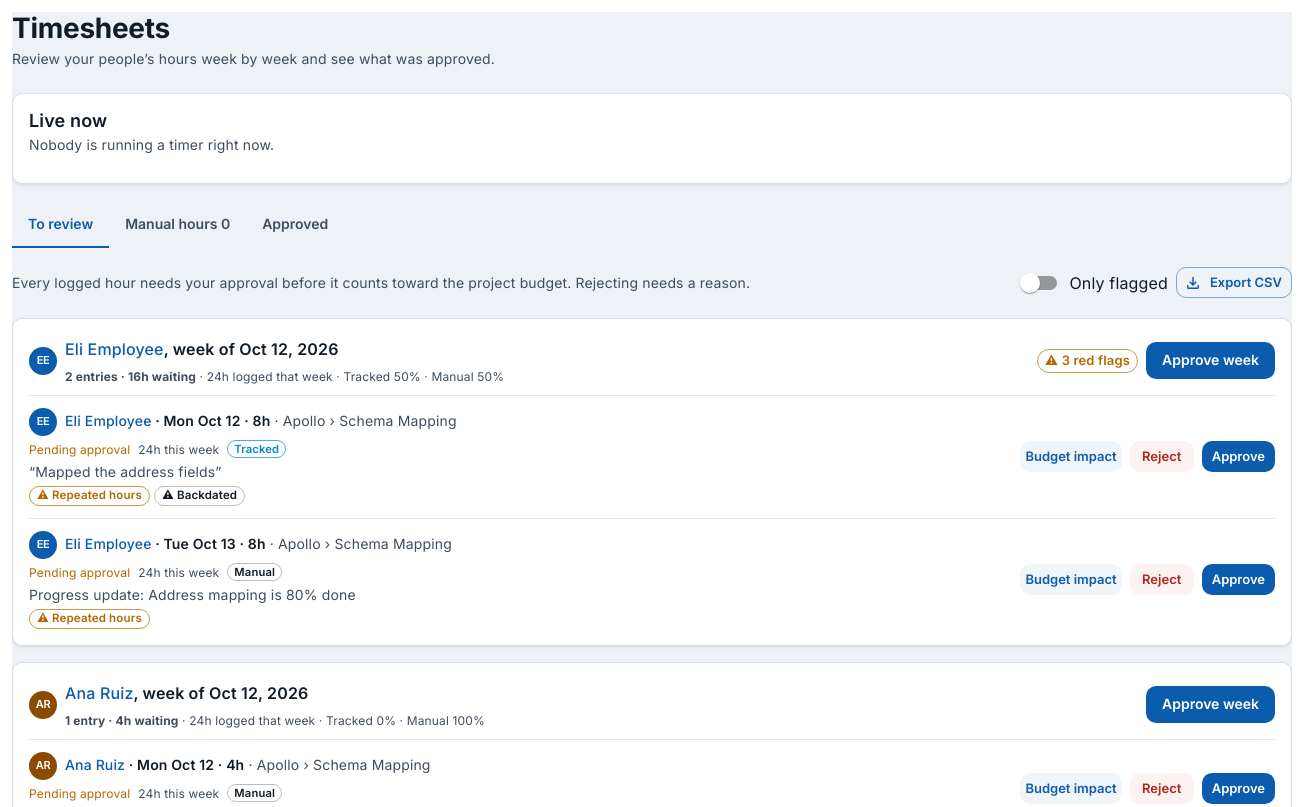
Timesheets: proof of work, tracked share and red flags › each entry shows its source, its proof and its red flags; each week its tracked share and flag count
The width and height of the screenshot is (1304, 807).
Expected: the text "Tracked 50% · Manual 50%" is shown, x1=333 y1=369 x2=504 y2=384
Expected: the text "⚠ 3 red flags" is shown, x1=1038 y1=351 x2=1137 y2=370
Hover over the text "⚠ Backdated": (200, 495) x1=162 y1=488 x2=237 y2=502
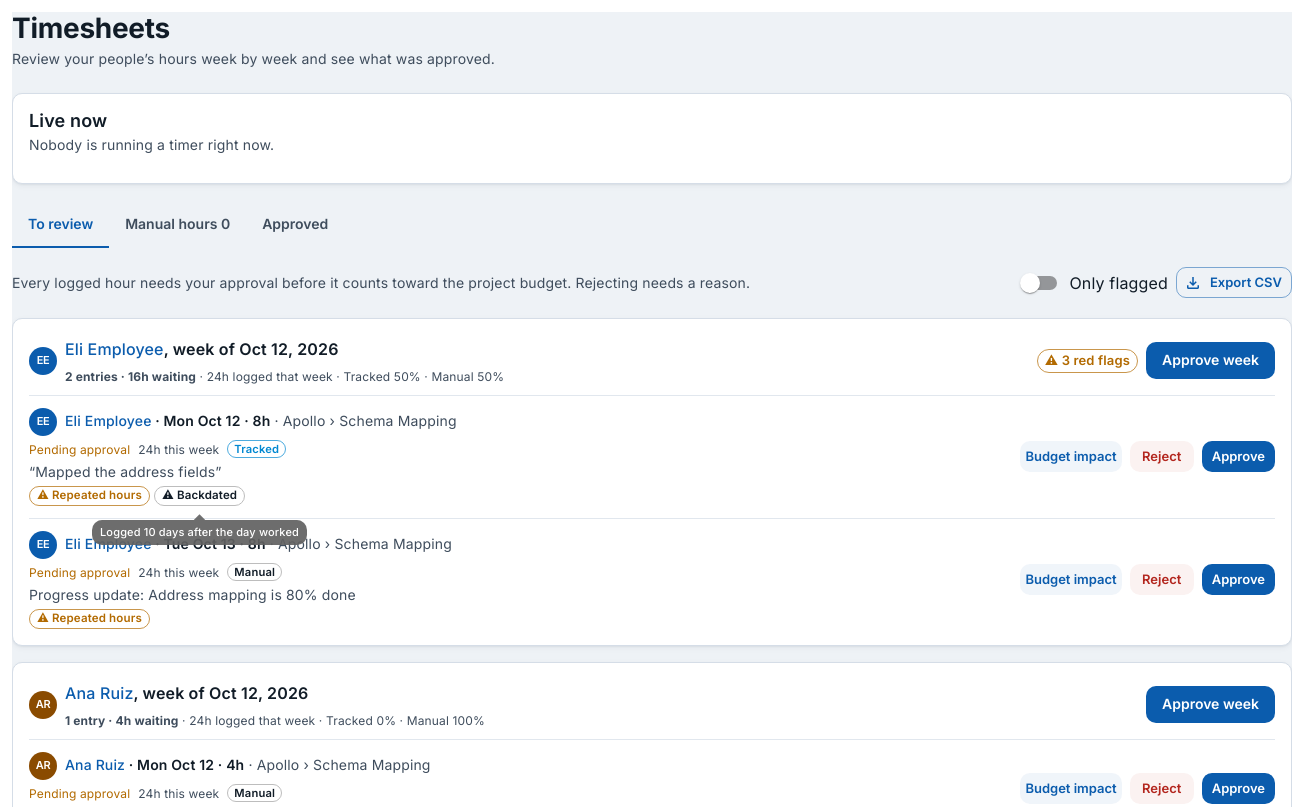
Expected: the text "Tracked 0% · Manual 100%" is shown, x1=315 y1=713 x2=485 y2=728
Now the tooltip reads "Logged 10 days after the day worked", box x1=100 y1=525 x2=299 y2=539
